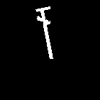double_crochet: (36, 7, 52, 58)
